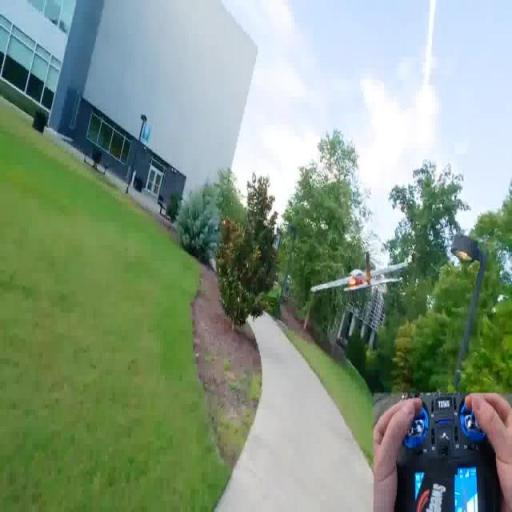uav: (308, 242, 412, 316)
